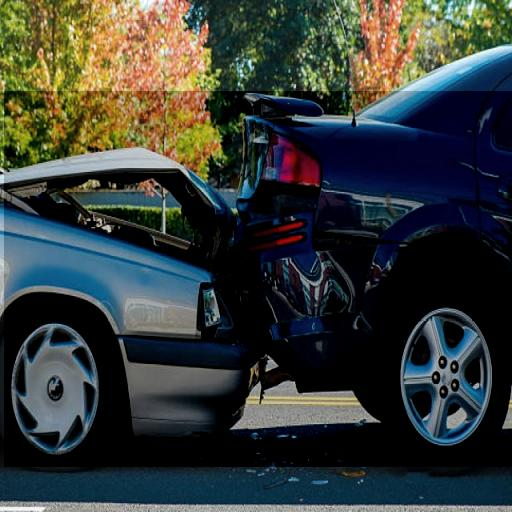小汽车撞小汽车: (4, 91, 512, 467)
